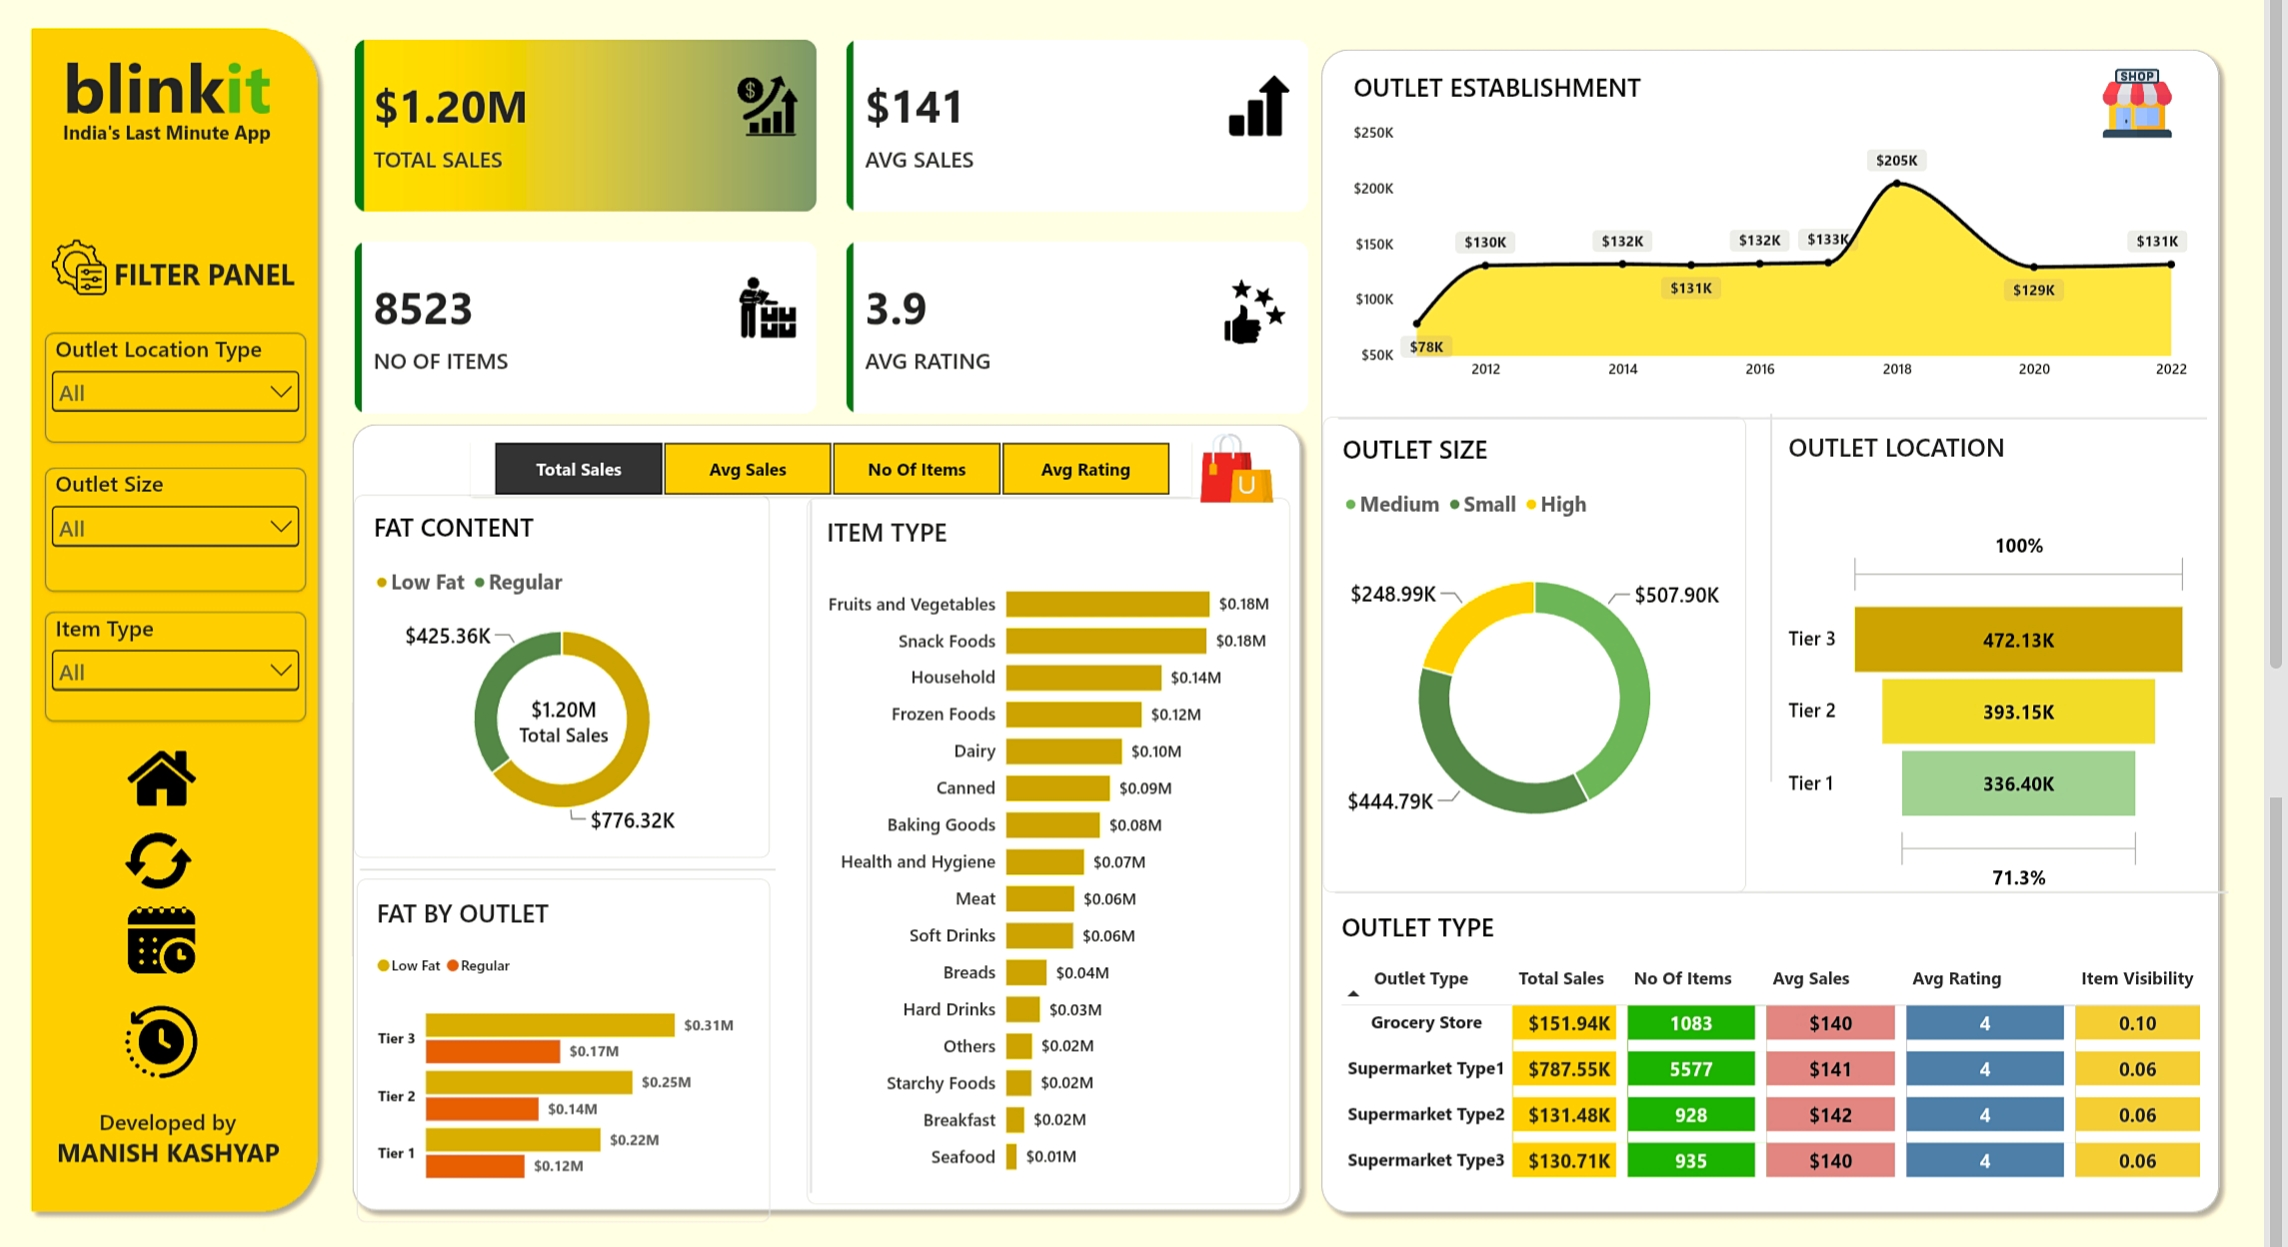

What the dashboard file says about the page in this screenshot:
{"tool":"powerbi","page":{"name":"Blinkit","canvas":[1920,1080],"ordinal":0},"visuals":[{"type":"shape","box":[21.4,26.2,261.9,1026.2],"z":0},{"type":"textbox","box":[542.9,26.2,916.7,202.4],"z":1000},{"type":"textbox","box":[57.1,42.9,226.2,85.7],"z":2000},{"type":"textbox","box":[57.1,111.9,226.2,40.5],"z":3000},{"type":"cardVisual","fields":{"Data":["BlinkIT Grocery Data.Total Sales","BlinkIT Grocery Data.Avg Sales","BlinkIT Grocery Data.No Of Items","BlinkIT Grocery Data.Avg Rating"]},"box":[304.8,42.9,814.3,321.4],"z":4000},{"type":"shape","box":[292.9,364.3,826.2,688.1],"z":5000},{"type":"donutChart","title":"FAT CONTENT","fields":{"Category":["BlinkIT Grocery Data.Item Fat Content"],"Y":["BlinkIT Grocery Data.Total Sales"]},"box":[304.8,433.3,354.8,309.5],"z":6000},{"type":"slicer","fields":{"Values":["Metrics.Metrics"]},"box":[404.8,385.7,614.3,47.6],"z":7000},{"type":"cardVisual","fields":{"Data":["BlinkIT Grocery Data.Total Sales"]},"box":[419,588.1,128.6,76.2],"z":8000},{"type":"clusteredBarChart","title":"FAT BY OUTLET","fields":{"Category":["BlinkIT Grocery Data.Outlet Location Type"],"Series":["BlinkIT Grocery Data.Item Fat Content"],"Y":["BlinkIT Grocery Data.Total Sales"]},"box":[307.1,759.6,352.4,292.9],"z":9000},{"type":"shape","box":[1366.8,344.6,283.7,682.2],"z":11000},{"type":"barChart","title":"ITEM TYPE","fields":{"Category":["BlinkIT Grocery Data.Item Type"],"Y":["BlinkIT Grocery Data.Total Sales"]},"box":[690.5,435.7,411.9,602.4],"z":12000},{"type":"shape","box":[1119,42.9,783.3,1009.5],"z":13000},{"type":"lineChart","title":"OUTLET ESTABLISHMENT","fields":{"Category":["BlinkIT Grocery Data.Outlet Establishment Year"],"Y":["BlinkIT Grocery Data.Total Sales"]},"box":[1140.5,57.1,742.9,297.6],"z":14000},{"type":"donutChart","title":"OUTLET SIZE","fields":{"Category":["BlinkIT Grocery Data.Outlet Size"],"Y":["BlinkIT Grocery Data.Total Sales"]},"box":[1130,365.7,361.1,405.6],"z":15000},{"type":"shape","box":[551,436.1,283.3,590.5],"z":16000},{"type":"shape","box":[1369.2,363.4,283.7,314.2],"z":17000},{"type":"funnel","title":"OUTLET LOCATION","fields":{"Category":["BlinkIT Grocery Data.Outlet Location Type"],"Y":["Sum(BlinkIT Grocery Data.Sales)"]},"box":[1509.8,363.4,372.8,464.2],"z":18000},{"type":"shape","box":[1139.4,644.7,762,253.2],"z":19000},{"type":"pivotTable","title":"OUTLET TYPE","fields":{"Rows":["BlinkIT Grocery Data.Outlet Type"],"Values":["BlinkIT Grocery Data.Total Sales","BlinkIT Grocery Data.No Of Items","BlinkIT Grocery Data.Avg Sales","BlinkIT Grocery Data.Avg Rating","Avg(BlinkIT Grocery Data.Item Visibility)"]},"box":[1130,771.3,771.3,309.5],"z":20000},{"type":"shape","box":[1141.8,239.1,740.9,253.2],"z":21000},{"type":"slicer","fields":{"Values":["BlinkIT Grocery Data.Outlet Location Type"]},"box":[39.9,293.1,222.7,93.8],"z":22000},{"type":"slicer","fields":{"Values":["BlinkIT Grocery Data.Outlet Size"]},"box":[39.9,410.3,222.7,105.5],"z":23000},{"type":"slicer","fields":{"Values":["BlinkIT Grocery Data.Item Type"]},"box":[39.9,532.2,222.7,93.8],"z":24000},{"type":"textbox","box":[98.5,227.4,185.2,159.4],"z":25000},{"type":"image","box":[39.9,215.7,58.6,46.9],"z":26000},{"type":"image","box":[1010.5,375.1,93.8,68],"z":27000},{"type":"image","box":[1727.9,68,192.2,58.6],"z":28000},{"type":"image","box":[68,644.7,143,58.6],"z":29000},{"type":"image","box":[105.5,715.1,65.6,56.3],"z":30000},{"type":"image","box":[110.2,780.7,61,63.3],"z":31000},{"type":"image","box":[51.6,867.5,178.2,63.3],"z":32000},{"type":"textbox","box":[51.6,954.2,253.2,96.1],"z":33000}]}

Visuals, with their boxes on the page's 1920x1080 design canvas (x1, y1, x2, y2). These are canvas units, not pixel positions in the 2288x1247 screenshot, which may show the page scaled, cropped or inside an application window:
shape: bbox(21, 26, 283, 1052)
textbox: bbox(543, 26, 1460, 229)
textbox: bbox(57, 43, 283, 129)
textbox: bbox(57, 112, 283, 152)
cardVisual - BlinkIT Grocery Data.Total Sales x BlinkIT Grocery Data.Avg Sales: bbox(305, 43, 1119, 364)
shape: bbox(293, 364, 1119, 1052)
"FAT CONTENT" donutChart: bbox(305, 433, 660, 743)
slicer - Metrics.Metrics: bbox(405, 386, 1019, 433)
cardVisual - BlinkIT Grocery Data.Total Sales: bbox(419, 588, 548, 664)
"FAT BY OUTLET" clusteredBarChart: bbox(307, 760, 660, 1052)
shape: bbox(1367, 345, 1650, 1027)
"ITEM TYPE" barChart: bbox(690, 436, 1102, 1038)
shape: bbox(1119, 43, 1902, 1052)
"OUTLET ESTABLISHMENT" lineChart: bbox(1140, 57, 1883, 355)
"OUTLET SIZE" donutChart: bbox(1130, 366, 1491, 771)
shape: bbox(551, 436, 834, 1027)
shape: bbox(1369, 363, 1653, 678)
"OUTLET LOCATION" funnel: bbox(1510, 363, 1883, 828)
shape: bbox(1139, 645, 1901, 898)
"OUTLET TYPE" pivotTable: bbox(1130, 771, 1901, 1081)
shape: bbox(1142, 239, 1883, 492)
slicer - BlinkIT Grocery Data.Outlet Location Type: bbox(40, 293, 263, 387)
slicer - BlinkIT Grocery Data.Outlet Size: bbox(40, 410, 263, 516)
slicer - BlinkIT Grocery Data.Item Type: bbox(40, 532, 263, 626)
textbox: bbox(98, 227, 284, 387)
image: bbox(40, 216, 98, 263)
image: bbox(1010, 375, 1104, 443)
image: bbox(1728, 68, 1920, 127)
image: bbox(68, 645, 211, 703)
image: bbox(106, 715, 171, 771)
image: bbox(110, 781, 171, 844)
image: bbox(52, 868, 230, 931)
textbox: bbox(52, 954, 305, 1050)
